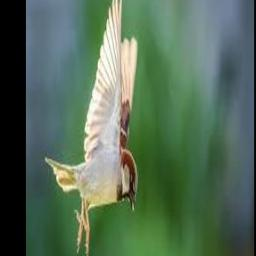Sparrow: (45, 0, 139, 256)
